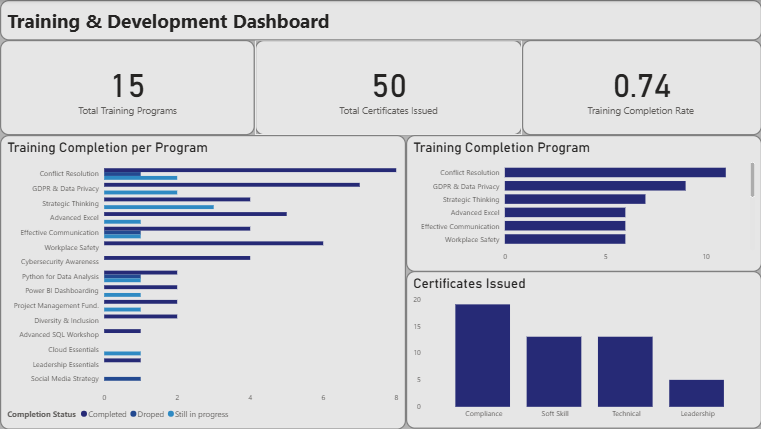

What the dashboard file says about the page in this screenshot:
{"tool":"powerbi","page":{"name":"Training & Development","canvas":[1280,720],"ordinal":3},"visuals":[{"type":"card","title":"Total Training Programs","fields":{"Values":["Count(vw_dash4_training.Program_ID)"]},"box":[0,67.2,428.3,159.6],"z":0},{"type":"card","title":"Total Certificates Issued","fields":{"Values":["CountNonNull(vw_dash4_training.Certificate_ID)"]},"box":[428.3,67.2,448.5,159.6],"z":1000},{"type":"card","fields":{"Values":["vw_dash4_training.Completion Rate"]},"box":[876.9,67.2,403.1,159.6],"z":2000},{"type":"textbox","box":[0,0,1280,68.3],"z":3000},{"type":"clusteredBarChart","title":"Training Completion Program","fields":{"Category":["vw_dash4_training.Program_Name"],"Y":["CountNonNull(vw_dash4_training.Employee_ID)"]},"box":[681.5,226,597.9,229.6],"z":4000},{"type":"clusteredBarChart","title":"Training Completion per Program","fields":{"Category":["vw_dash4_training.Program_Name"],"Y":["CountNonNull(vw_dash4_training.Employee_ID)"],"Series":["vw_dash4_training.Completion_Status"]},"box":[0,226,681.5,494.7],"z":5000},{"type":"clusteredColumnChart","title":"Certificates Issued","fields":{"Y":["CountNonNull(vw_dash4_training.Certificate_ID)"],"Category":["vw_dash4_training.Program_Category"]},"box":[681.5,455.6,597.9,265.1],"z":6000}]}

Visuals, with their boxes in screenshot pixels (x1, y1, x2, y2), scaled from the page's 1280x720 canvas onto the 761x429 screenshot:
"Total Training Programs" card: box=[0, 40, 255, 135]
"Total Certificates Issued" card: box=[255, 40, 521, 135]
card - vw_dash4_training.Completion Rate: box=[521, 40, 760, 135]
textbox: box=[0, 0, 760, 41]
"Training Completion Program" clusteredBarChart: box=[405, 135, 760, 271]
"Training Completion per Program" clusteredBarChart: box=[0, 135, 405, 428]
"Certificates Issued" clusteredColumnChart: box=[405, 271, 760, 428]
